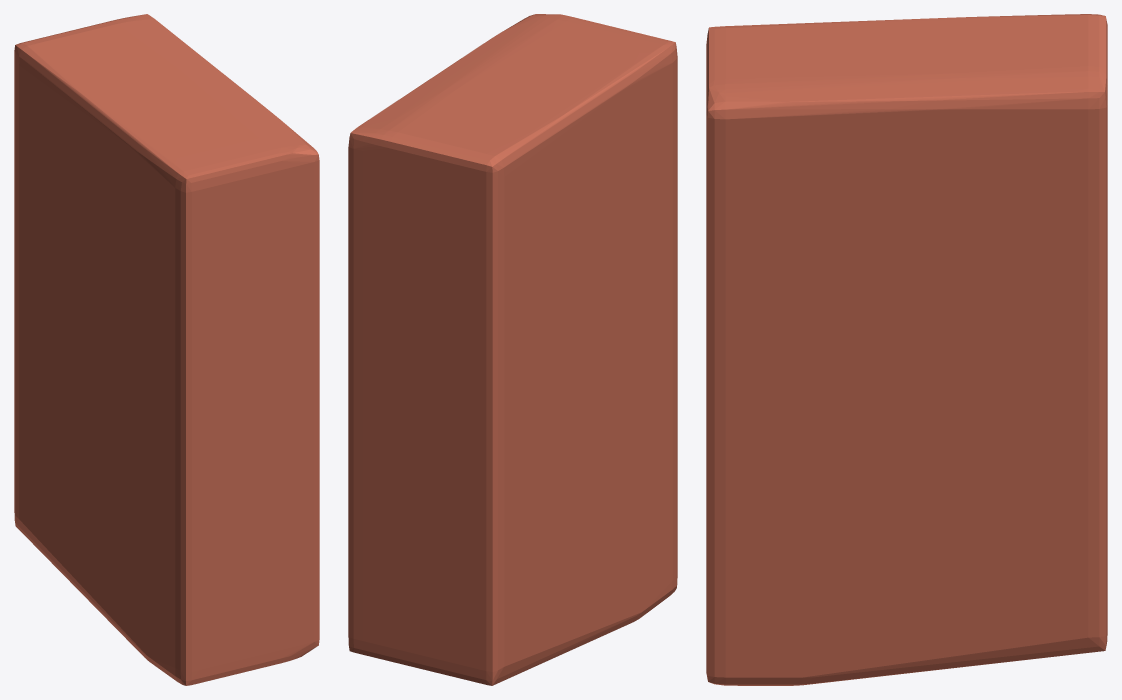
The model's file is left_f_middle_part_9.obj.
3 renders of one model, left to right at view 1: azimuth 30°, elevation 25°; view 2: azimuth 150°, elevation 25°; view 3: azimuth 270°, elevation 25°, orthographic. The views are drawn at different scales.
Size of the model in its own units: 4.81 by 17.22 by 10.29.
